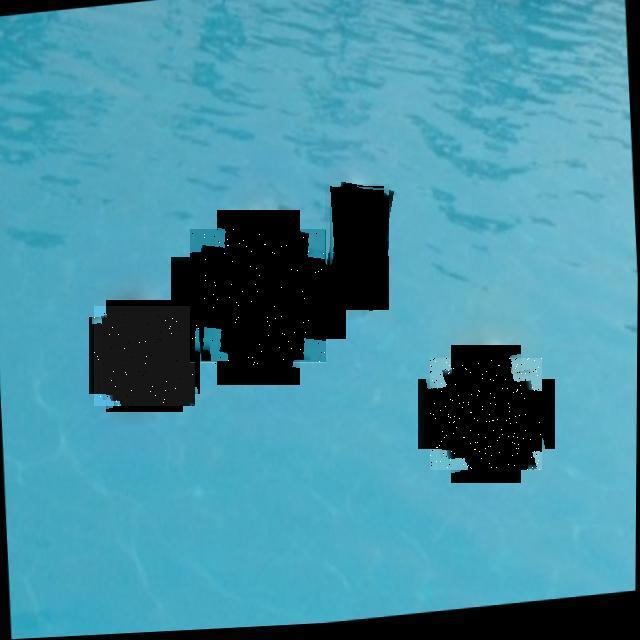swimming: (190, 230, 326, 366), (430, 358, 542, 470), (94, 306, 195, 406), (325, 184, 389, 310)
